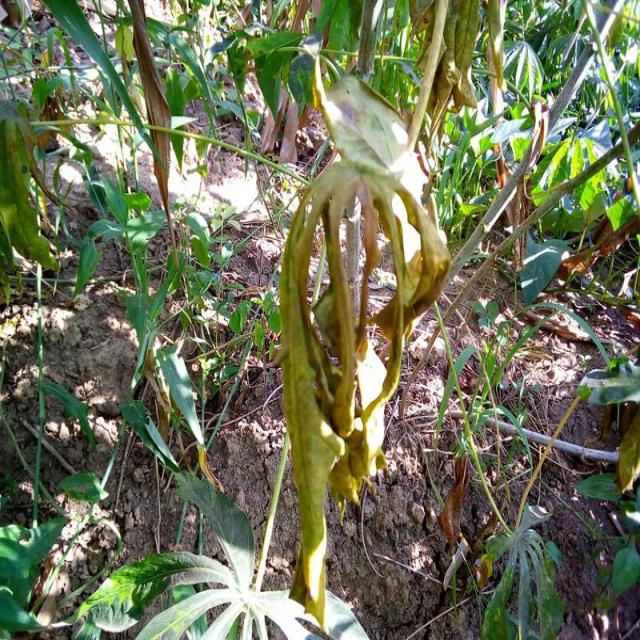cassava leaf: (275, 62, 451, 629)
